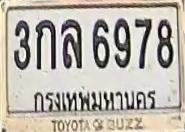3: (13, 19, 30, 70)
6: (92, 18, 109, 69)
7: (134, 18, 152, 68)
8: (156, 18, 173, 68)
9: (113, 17, 131, 68)
A01: (35, 18, 56, 70)
A36: (62, 18, 82, 69)
BKK: (28, 82, 159, 116)
